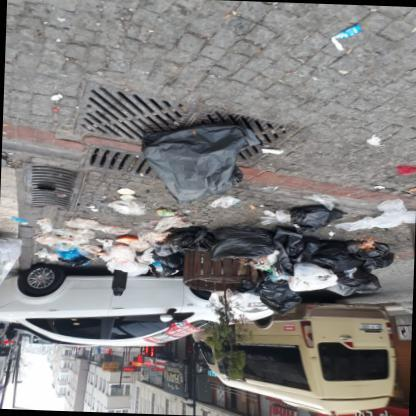Garbage: (24, 204, 182, 280), (132, 115, 258, 196), (198, 196, 343, 261), (265, 238, 389, 305)
